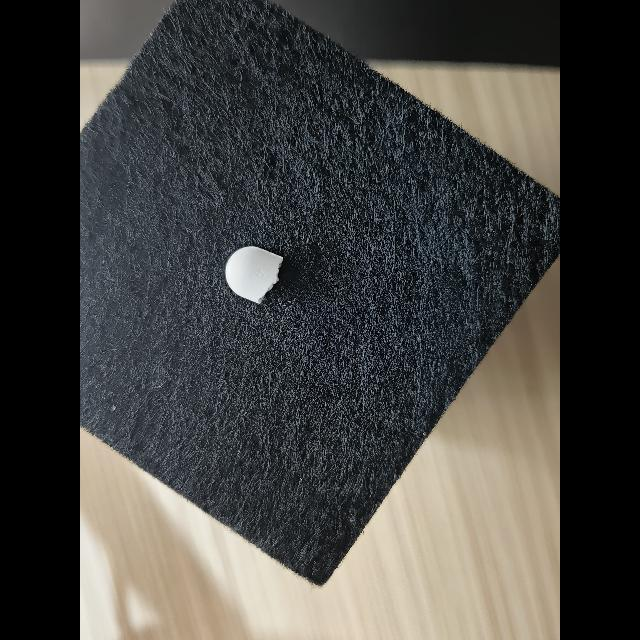Chipped Pill: (225, 246, 283, 304)
